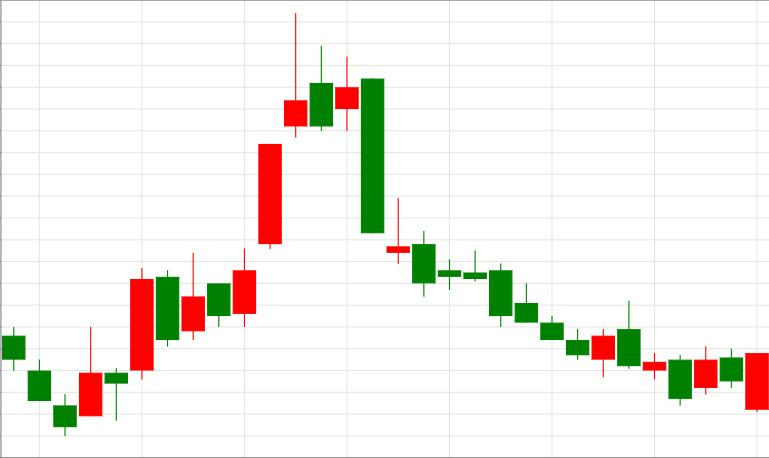bullish_engulfing_rise: (412, 230, 615, 378)
shooting_star_fall: (181, 13, 308, 339)
